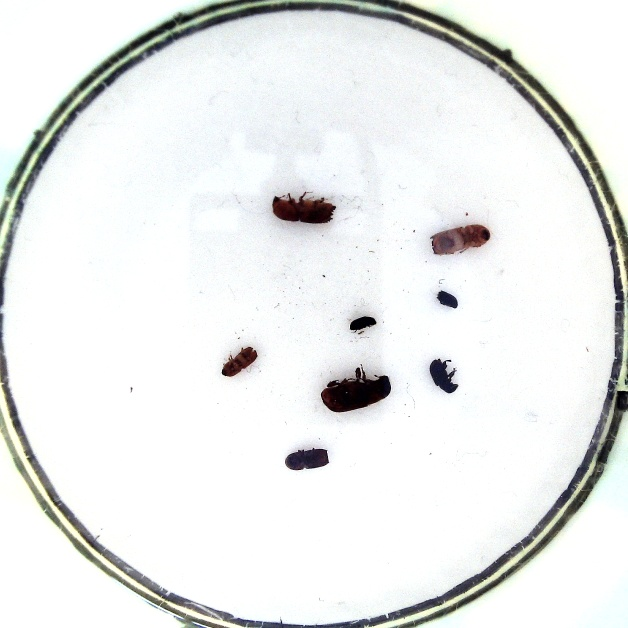acuminatus: (220, 344, 260, 377)
armandi: (427, 356, 460, 394)
boerner: (270, 189, 337, 225), (430, 221, 492, 256)
coleoptera: (435, 288, 459, 311), (348, 315, 377, 334)
leconte: (317, 365, 391, 415)
linnaeus: (283, 444, 331, 470)
